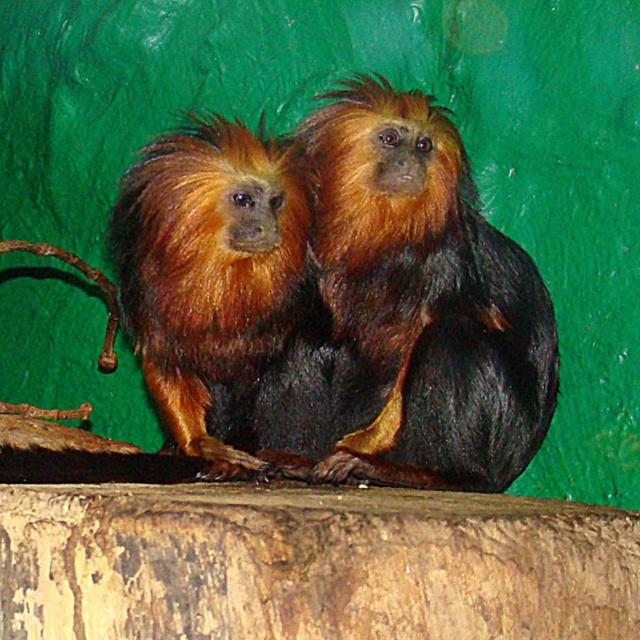Monkey: (252, 67, 565, 494), (108, 99, 337, 486)
